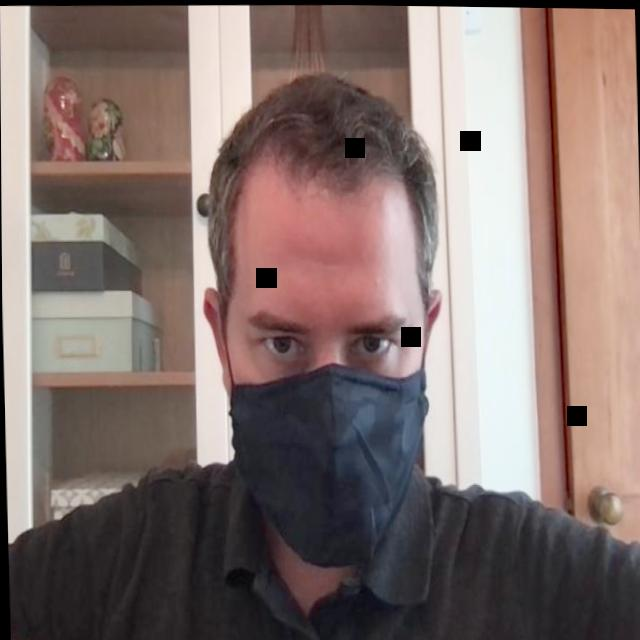Mask: (196, 69, 445, 572)
